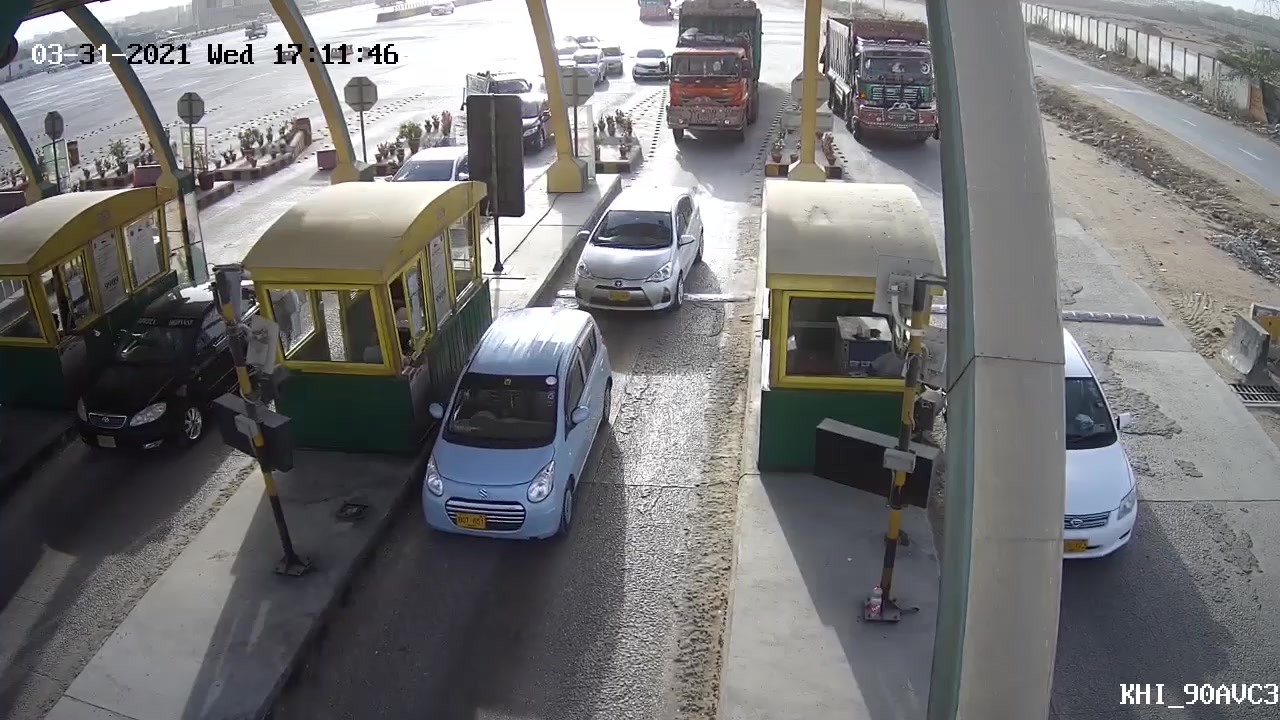F1: (394, 303, 626, 560), (569, 179, 716, 326)
